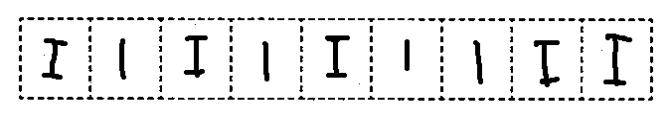I: (596, 30, 638, 88), (455, 36, 499, 88), (525, 36, 566, 90), (171, 29, 215, 79), (35, 32, 76, 84), (245, 38, 286, 87), (106, 32, 142, 84), (385, 34, 426, 77), (318, 32, 352, 83)
